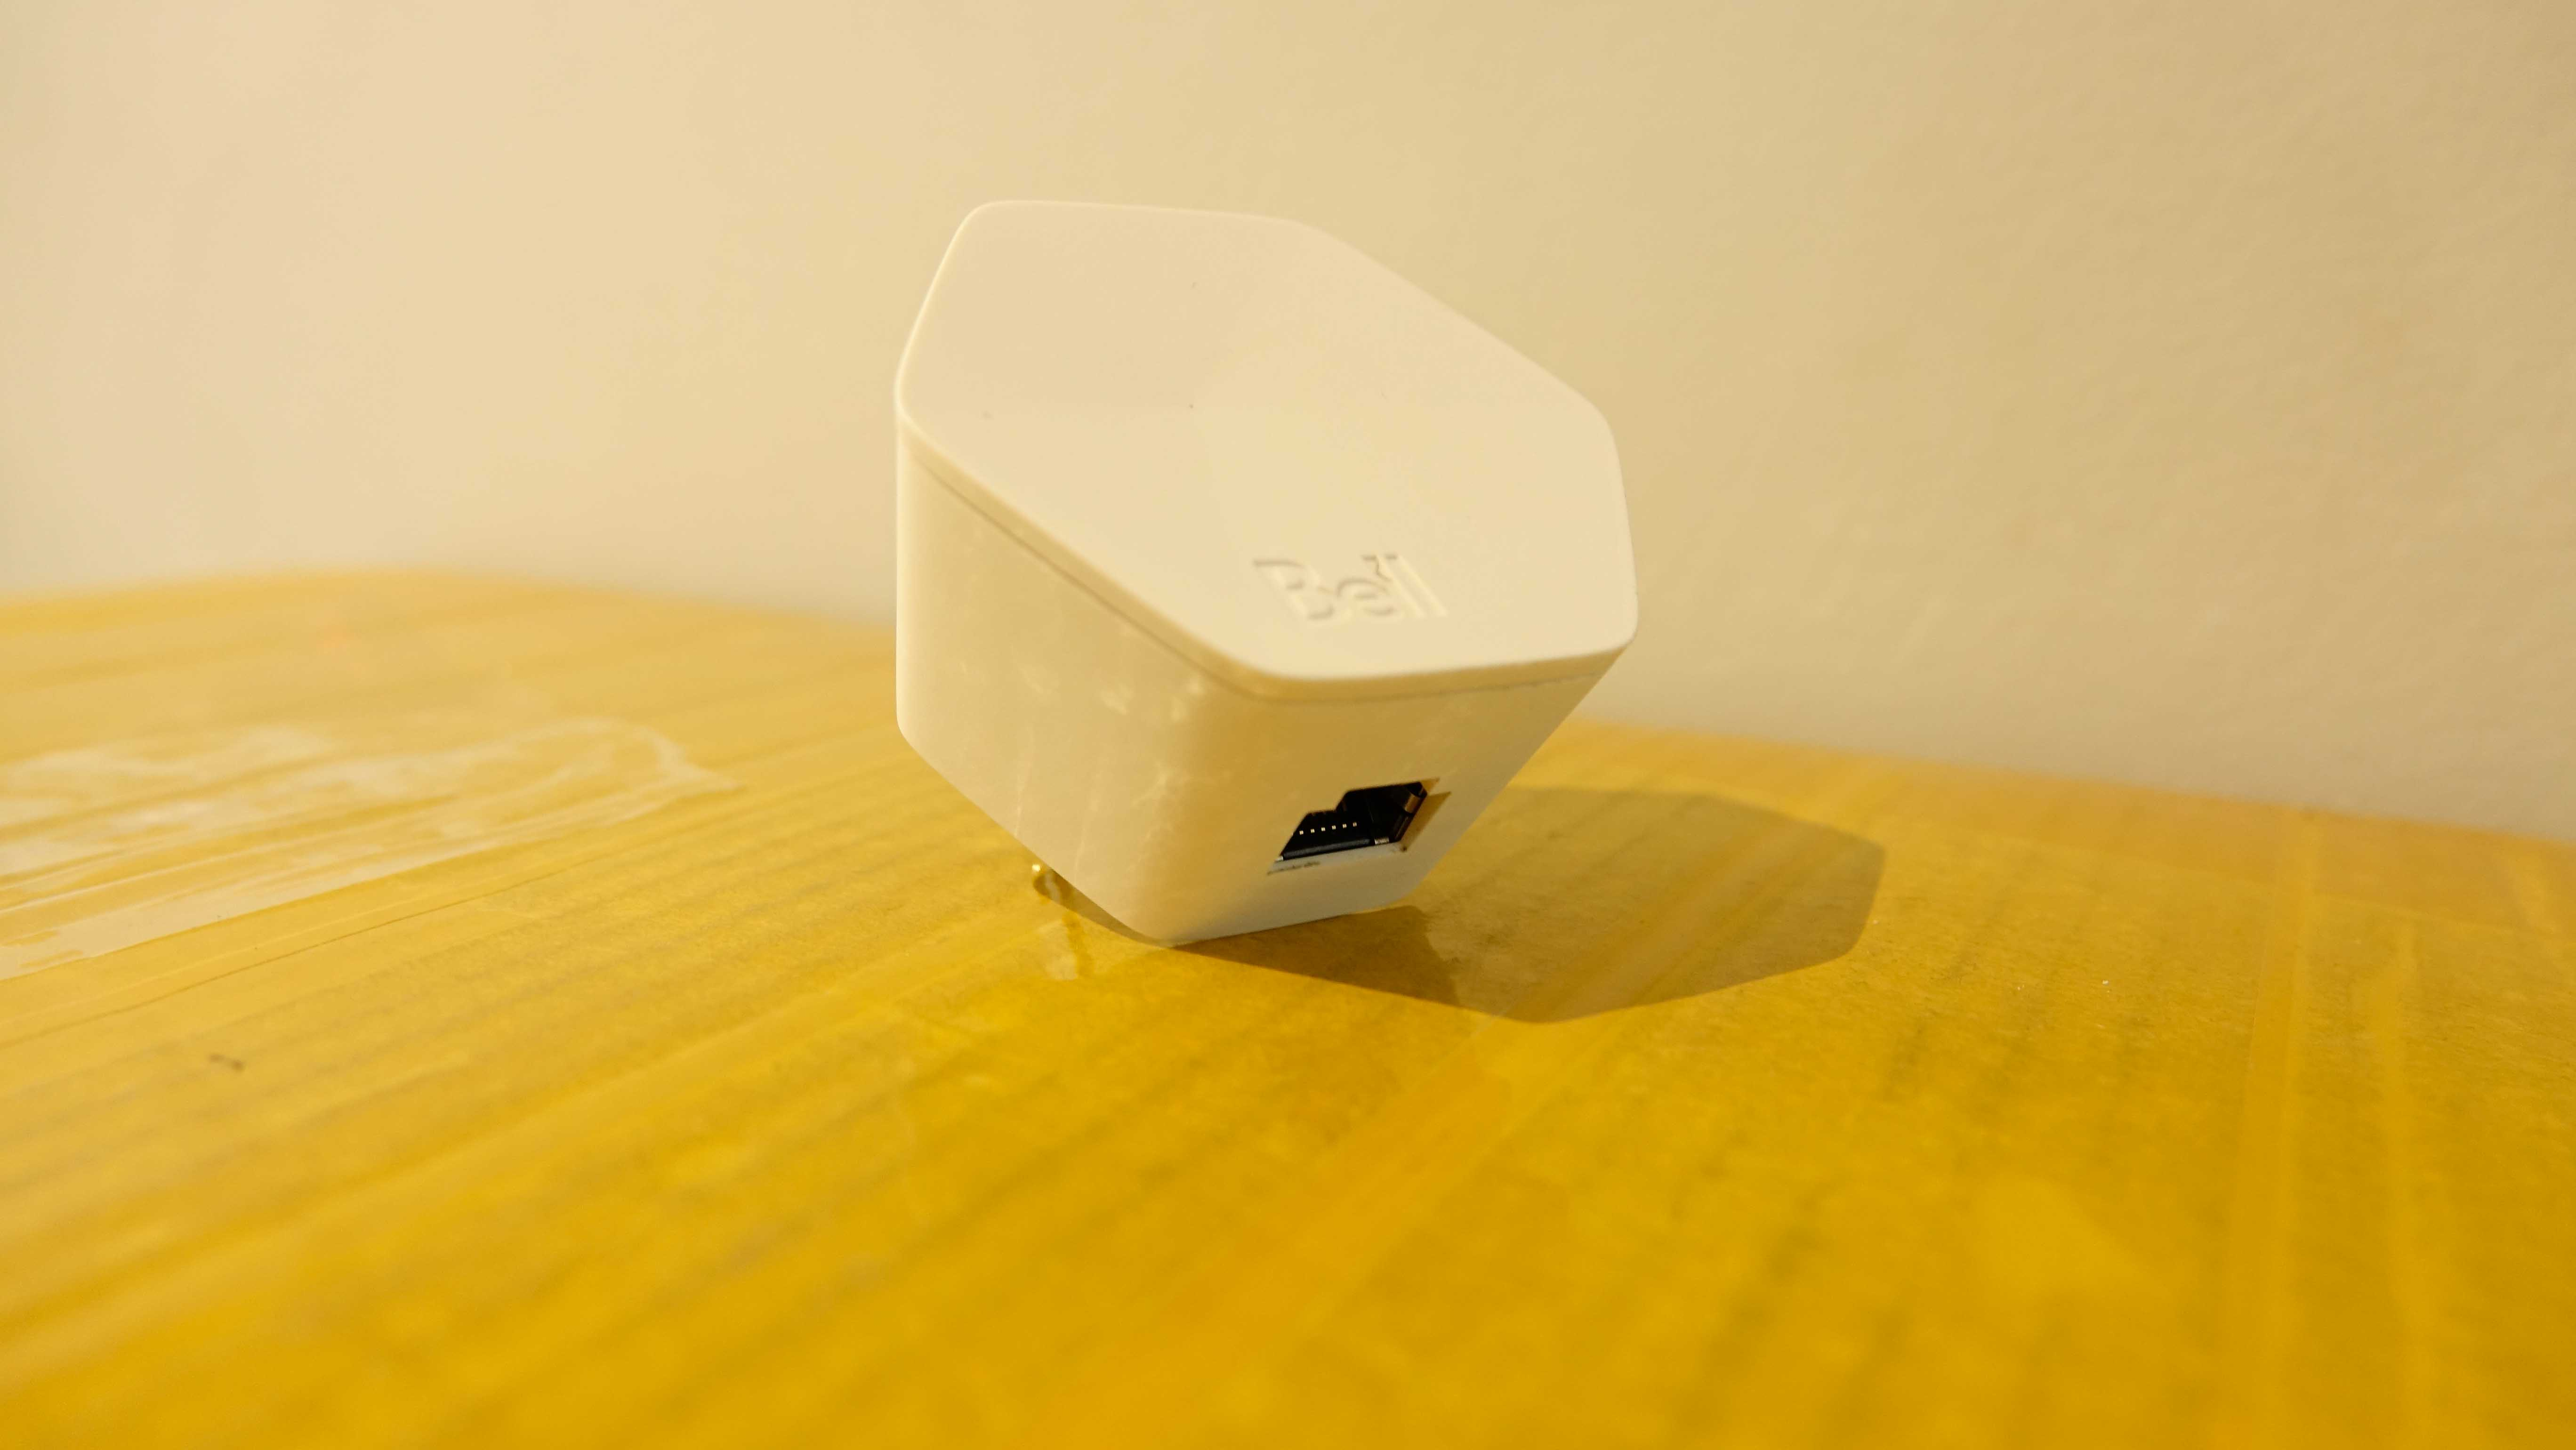pod: (860, 186, 1656, 969)
